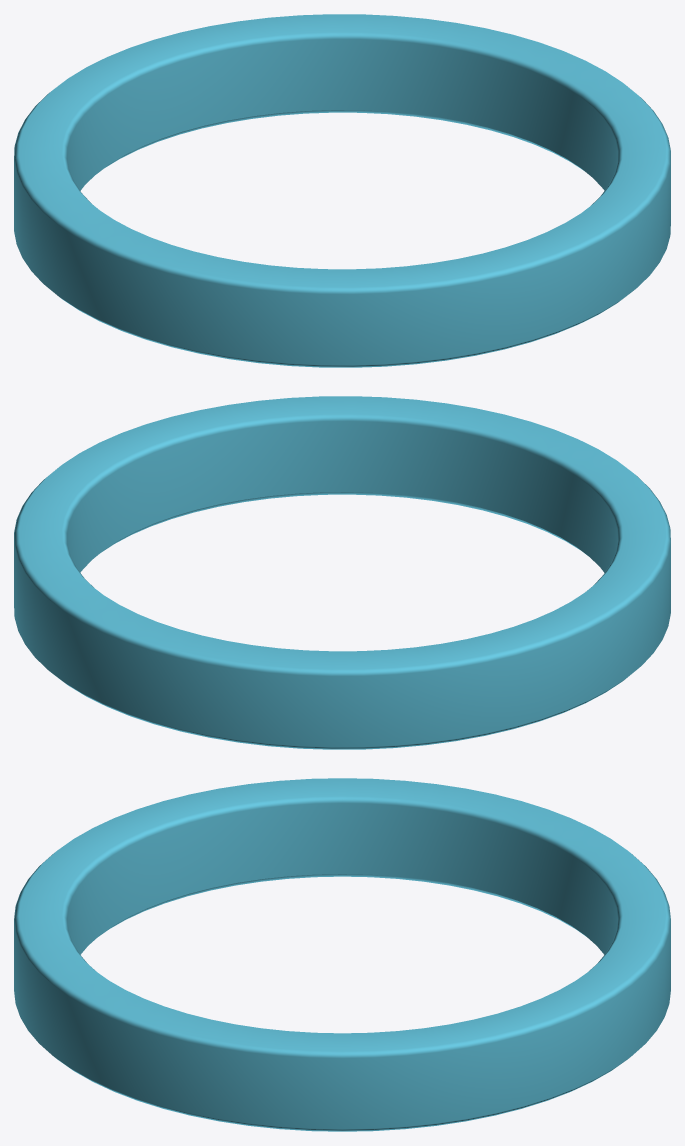
The picture shows the model from 3 angles, top to bottom: view 1: azimuth 30°, elevation 25°; view 2: azimuth 150°, elevation 25°; view 3: azimuth 270°, elevation 25°; orthographic projection.
Visible parts, largest first — view 1: seal_body; view 2: seal_body; view 3: seal_body.
Part boxes in pixels (x1,y1,x2,y2): seal_body: (14, 14, 670, 367); seal_body: (14, 396, 670, 749); seal_body: (14, 778, 670, 1131).
Size of the model in its own units: 0.1175 by 0.0159 by 0.1175.
